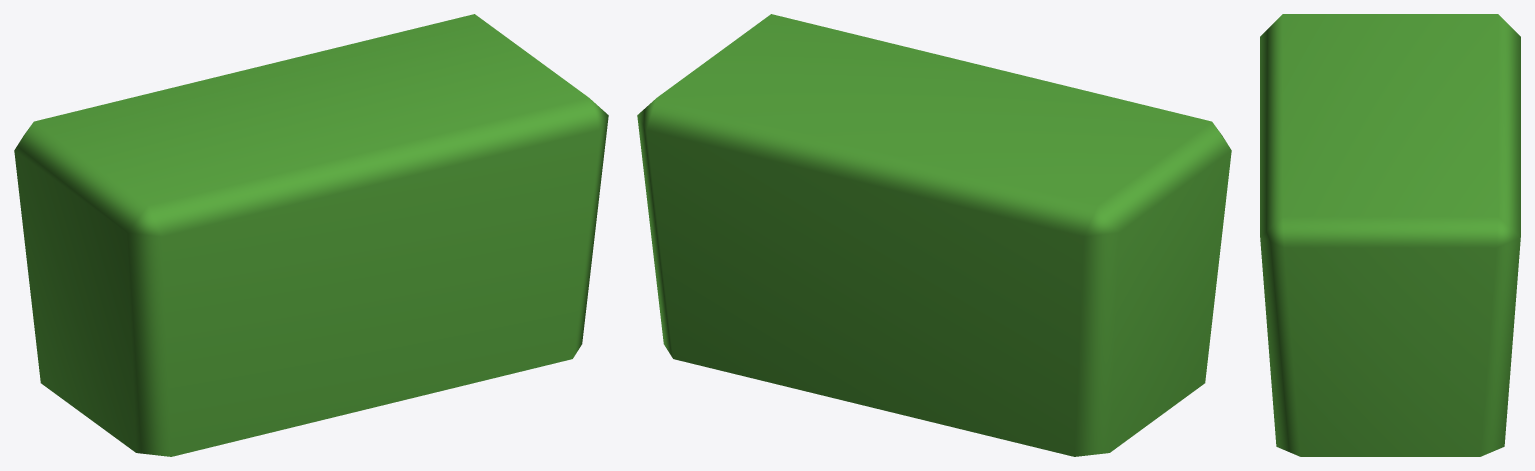
File: bush_10_pacote.glb
3 renders of one model, left to right at view 1: azimuth 30°, elevation 25°; view 2: azimuth 150°, elevation 25°; view 3: azimuth 270°, elevation 25°, orthographic. The views are drawn at different scales.
Visible parts, largest first — view 1: bush_10_pacote; view 2: bush_10_pacote; view 3: bush_10_pacote.
Boxes of the visible parts, x1,y1,x2,y2 form: bush_10_pacote: (14, 14, 608, 456); bush_10_pacote: (637, 14, 1231, 456); bush_10_pacote: (1260, 14, 1520, 456).
Size of the model in its own units: 1.99 by 1 by 0.9876.
Materials: 1 (1 with a texture image).
